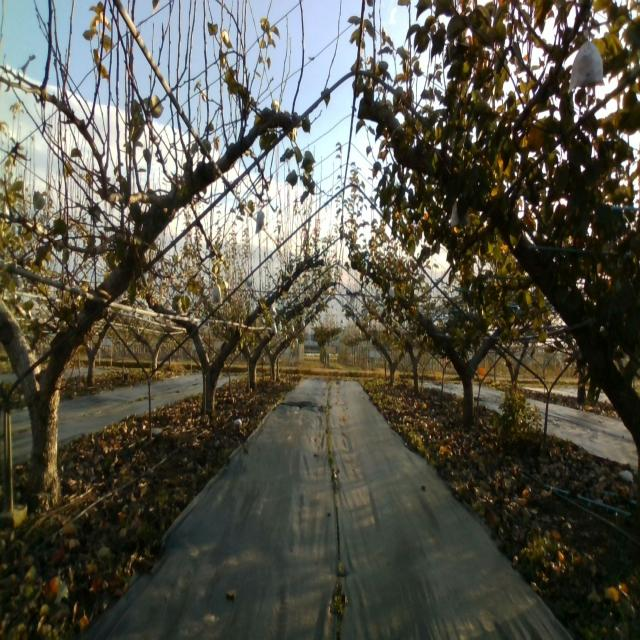pearbags: (566, 29, 605, 93), (210, 279, 222, 304)
